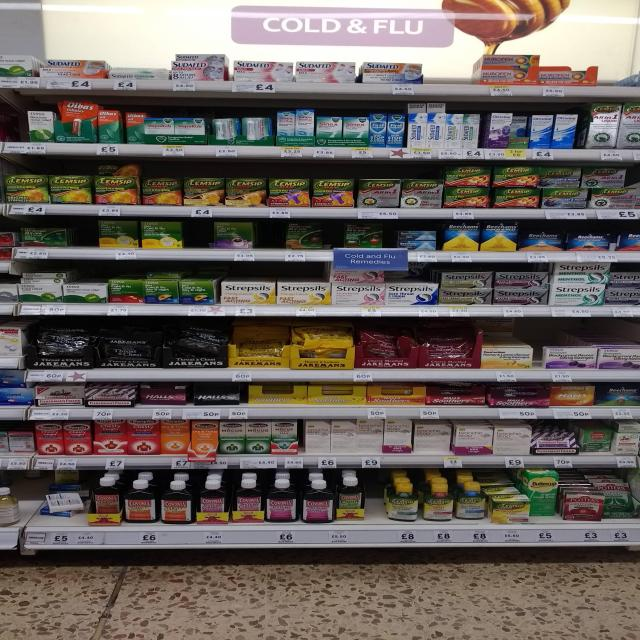empty_space: (6, 109, 25, 140), (257, 222, 281, 246), (72, 215, 92, 242), (186, 226, 206, 244)
